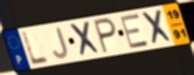E: (118, 12, 151, 50)
J: (52, 26, 70, 60)
L: (21, 30, 51, 67)
P: (92, 16, 118, 55)
X: (140, 9, 176, 47), (68, 20, 104, 58)
